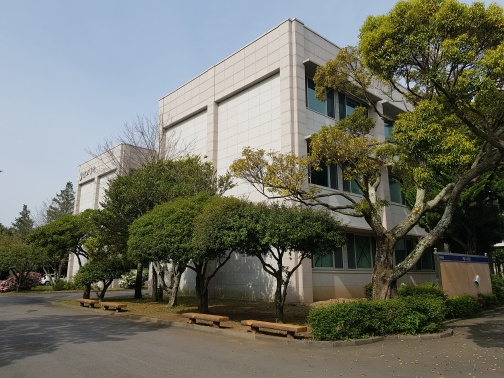College of Nursing: (154, 29, 441, 277), (62, 132, 136, 287)
